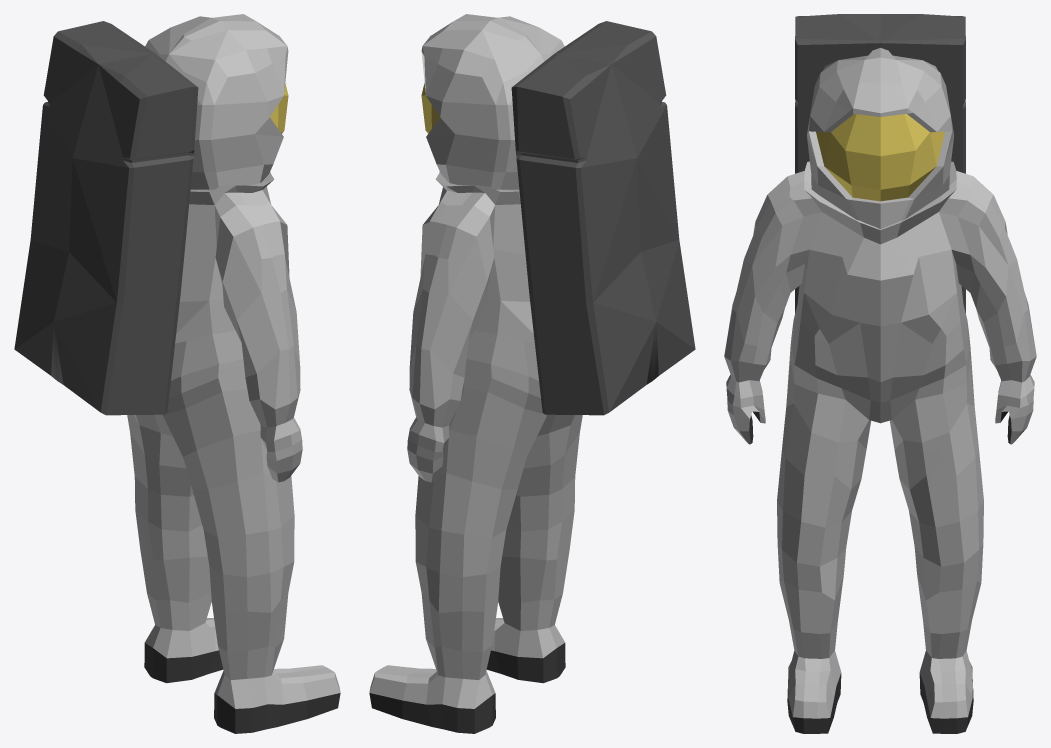
File: astronout.fbx
3 renders of one model, left to right at view 1: azimuth 30°, elevation 25°; view 2: azimuth 150°, elevation 25°; view 3: azimuth 270°, elevation 25°, orthographic. The views are drawn at different scales.
Parts seen in each view (by area): view 1: Astronaut; view 2: Astronaut; view 3: Astronaut.
Part boxes in pixels (left/top/right/bottom): Astronaut: left=14, top=14, right=340, bottom=733; Astronaut: left=369, top=14, right=695, bottom=733; Astronaut: left=724, top=14, right=1036, bottom=733.
Size of the model in its own units: 98.87 by 259 by 115.
